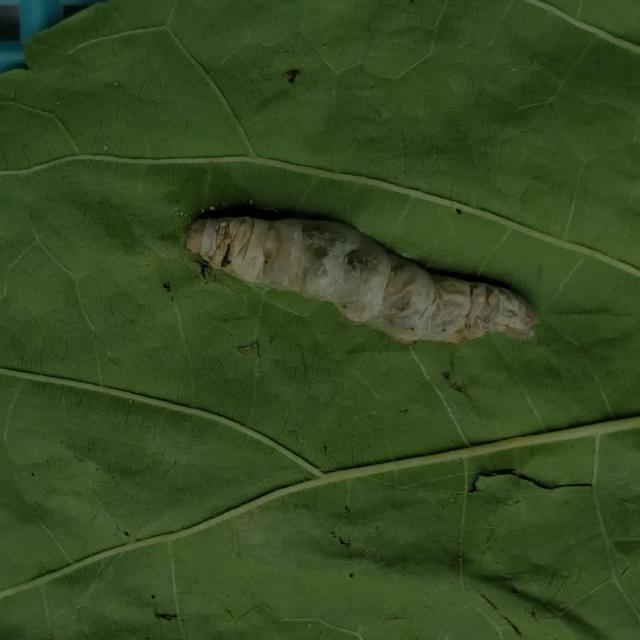Grasserie: (176, 188, 544, 359)
